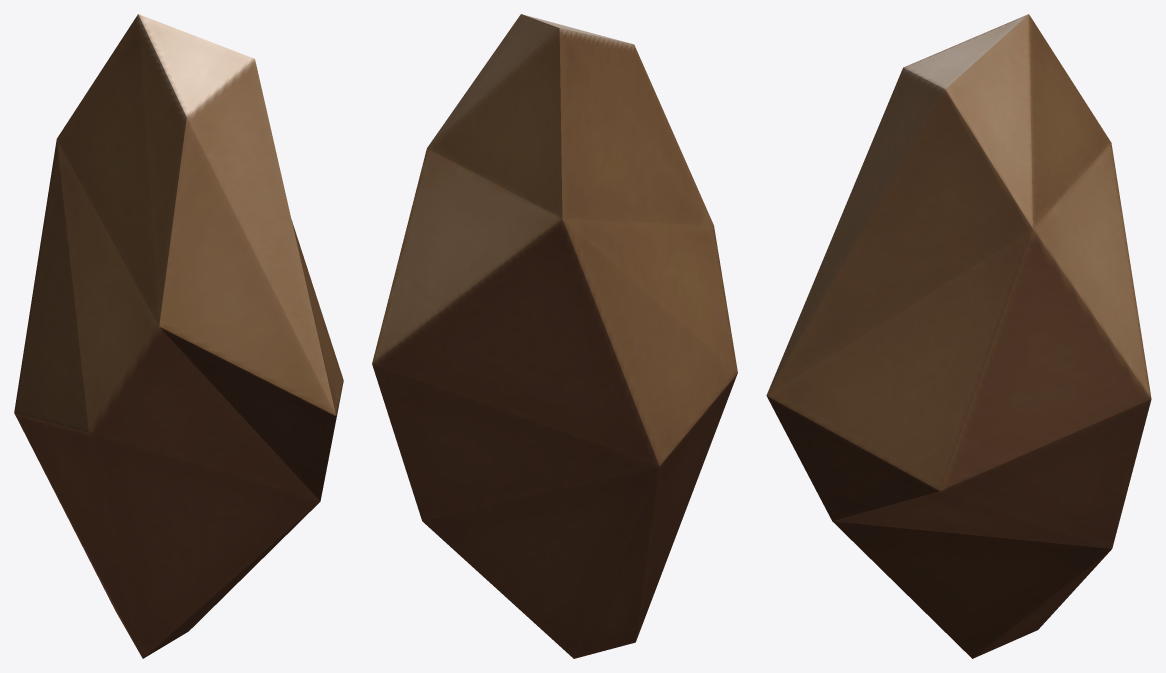
Rendered from LiaoWangTa_2.FBX.
3 renders of one model, left to right at view 1: azimuth 30°, elevation 25°; view 2: azimuth 150°, elevation 25°; view 3: azimuth 270°, elevation 25°, orthographic. The views are drawn at different scales.
Visible parts, largest first — view 1: LiaoWangTa_2; view 2: LiaoWangTa_2; view 3: LiaoWangTa_2.
Boxes of the visible parts, x1,y1,x2,y2 form: LiaoWangTa_2: (14,14,343,658); LiaoWangTa_2: (372,14,737,658); LiaoWangTa_2: (766,14,1151,658).
Bounding box in the file's own units: 66.28 × 141 × 77.15.
